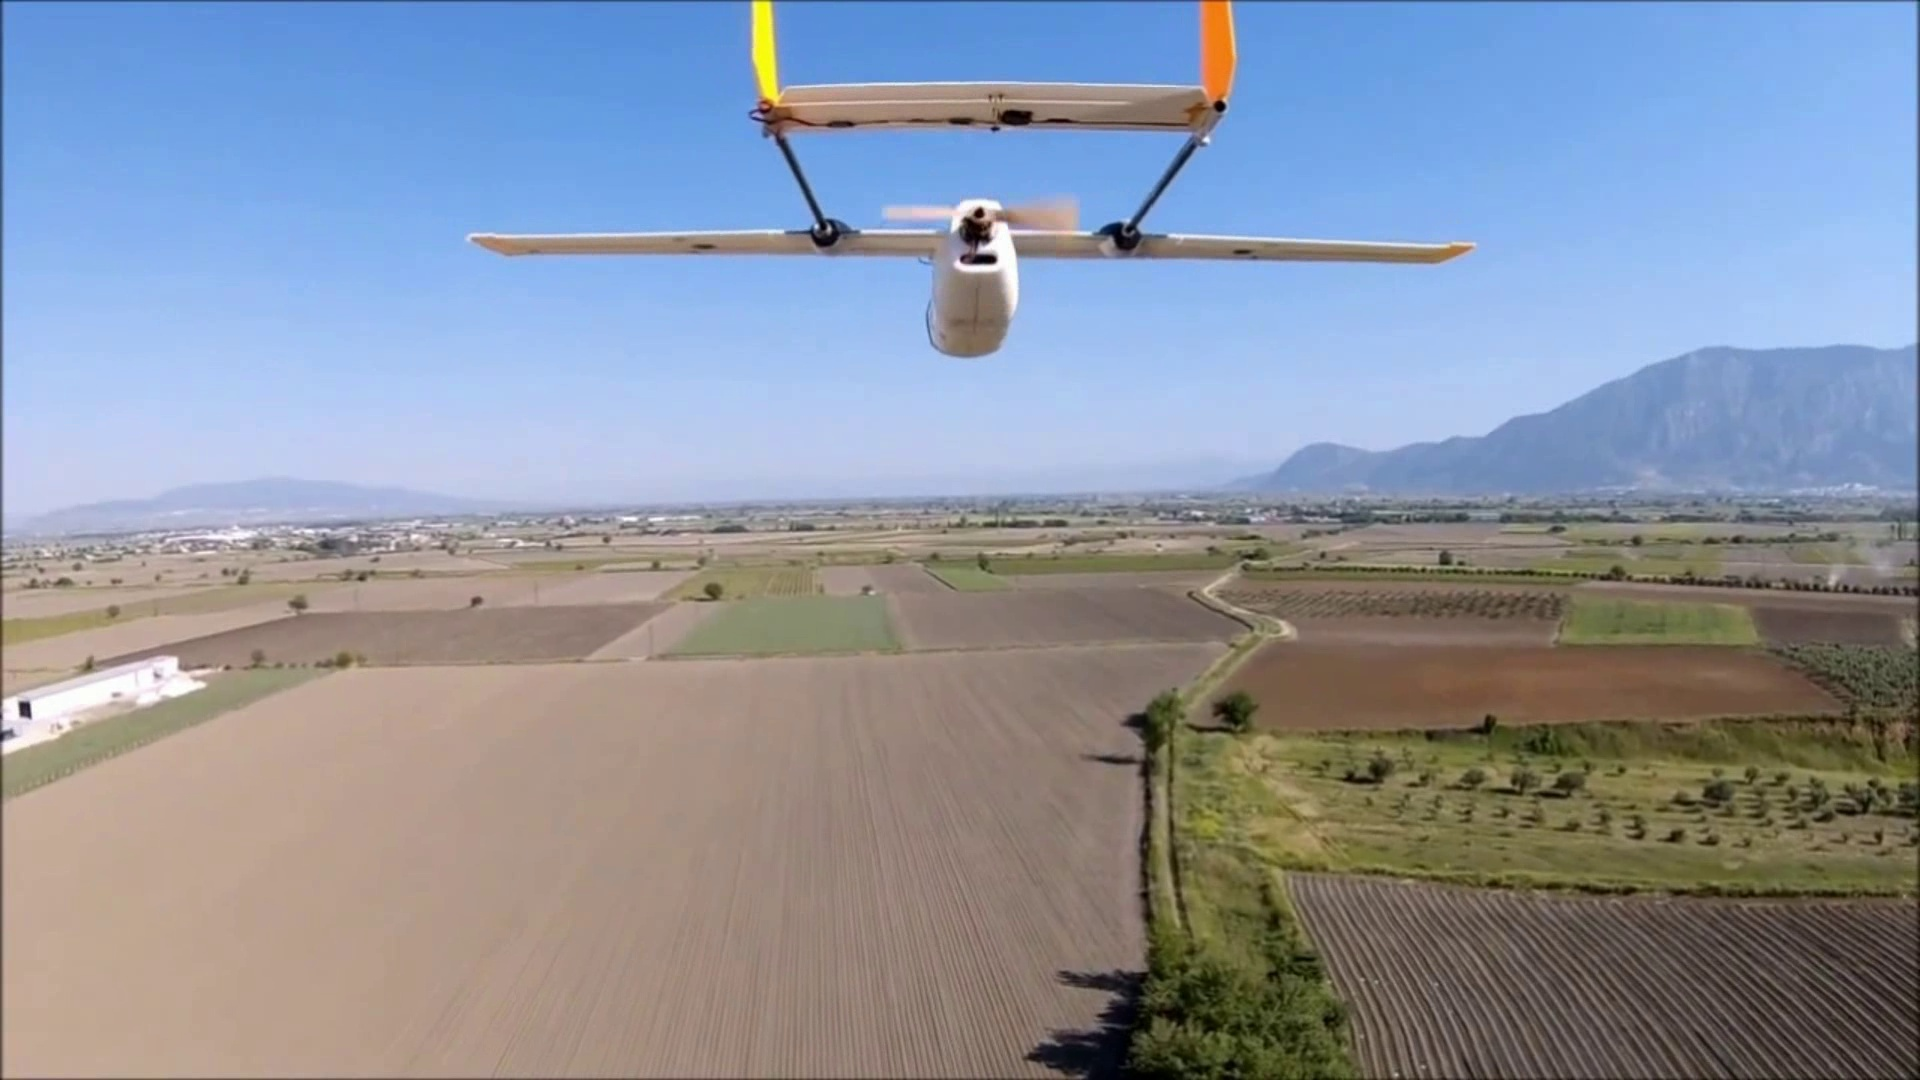airplane: (469, 5, 1474, 353)
